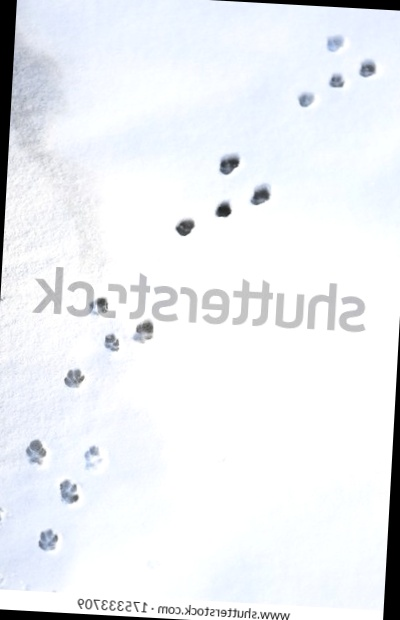rabbit: (148, 144, 291, 272)
